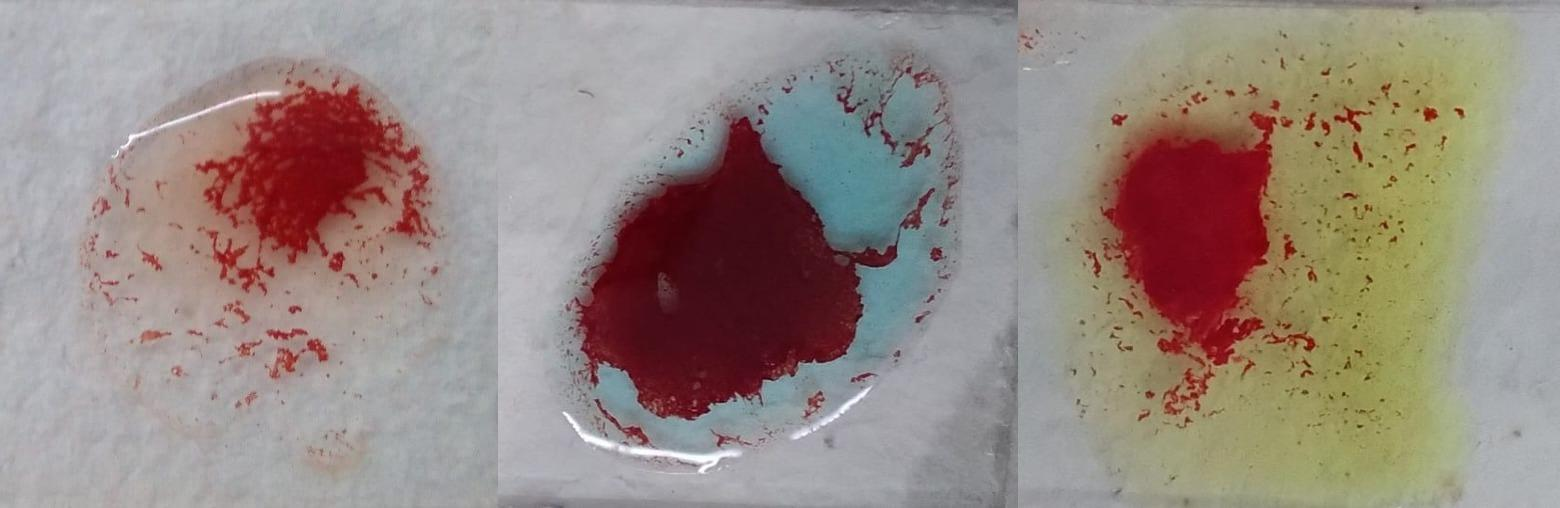A: (551, 50, 959, 473)
B: (1083, 11, 1446, 494)
D: (96, 54, 427, 417)
